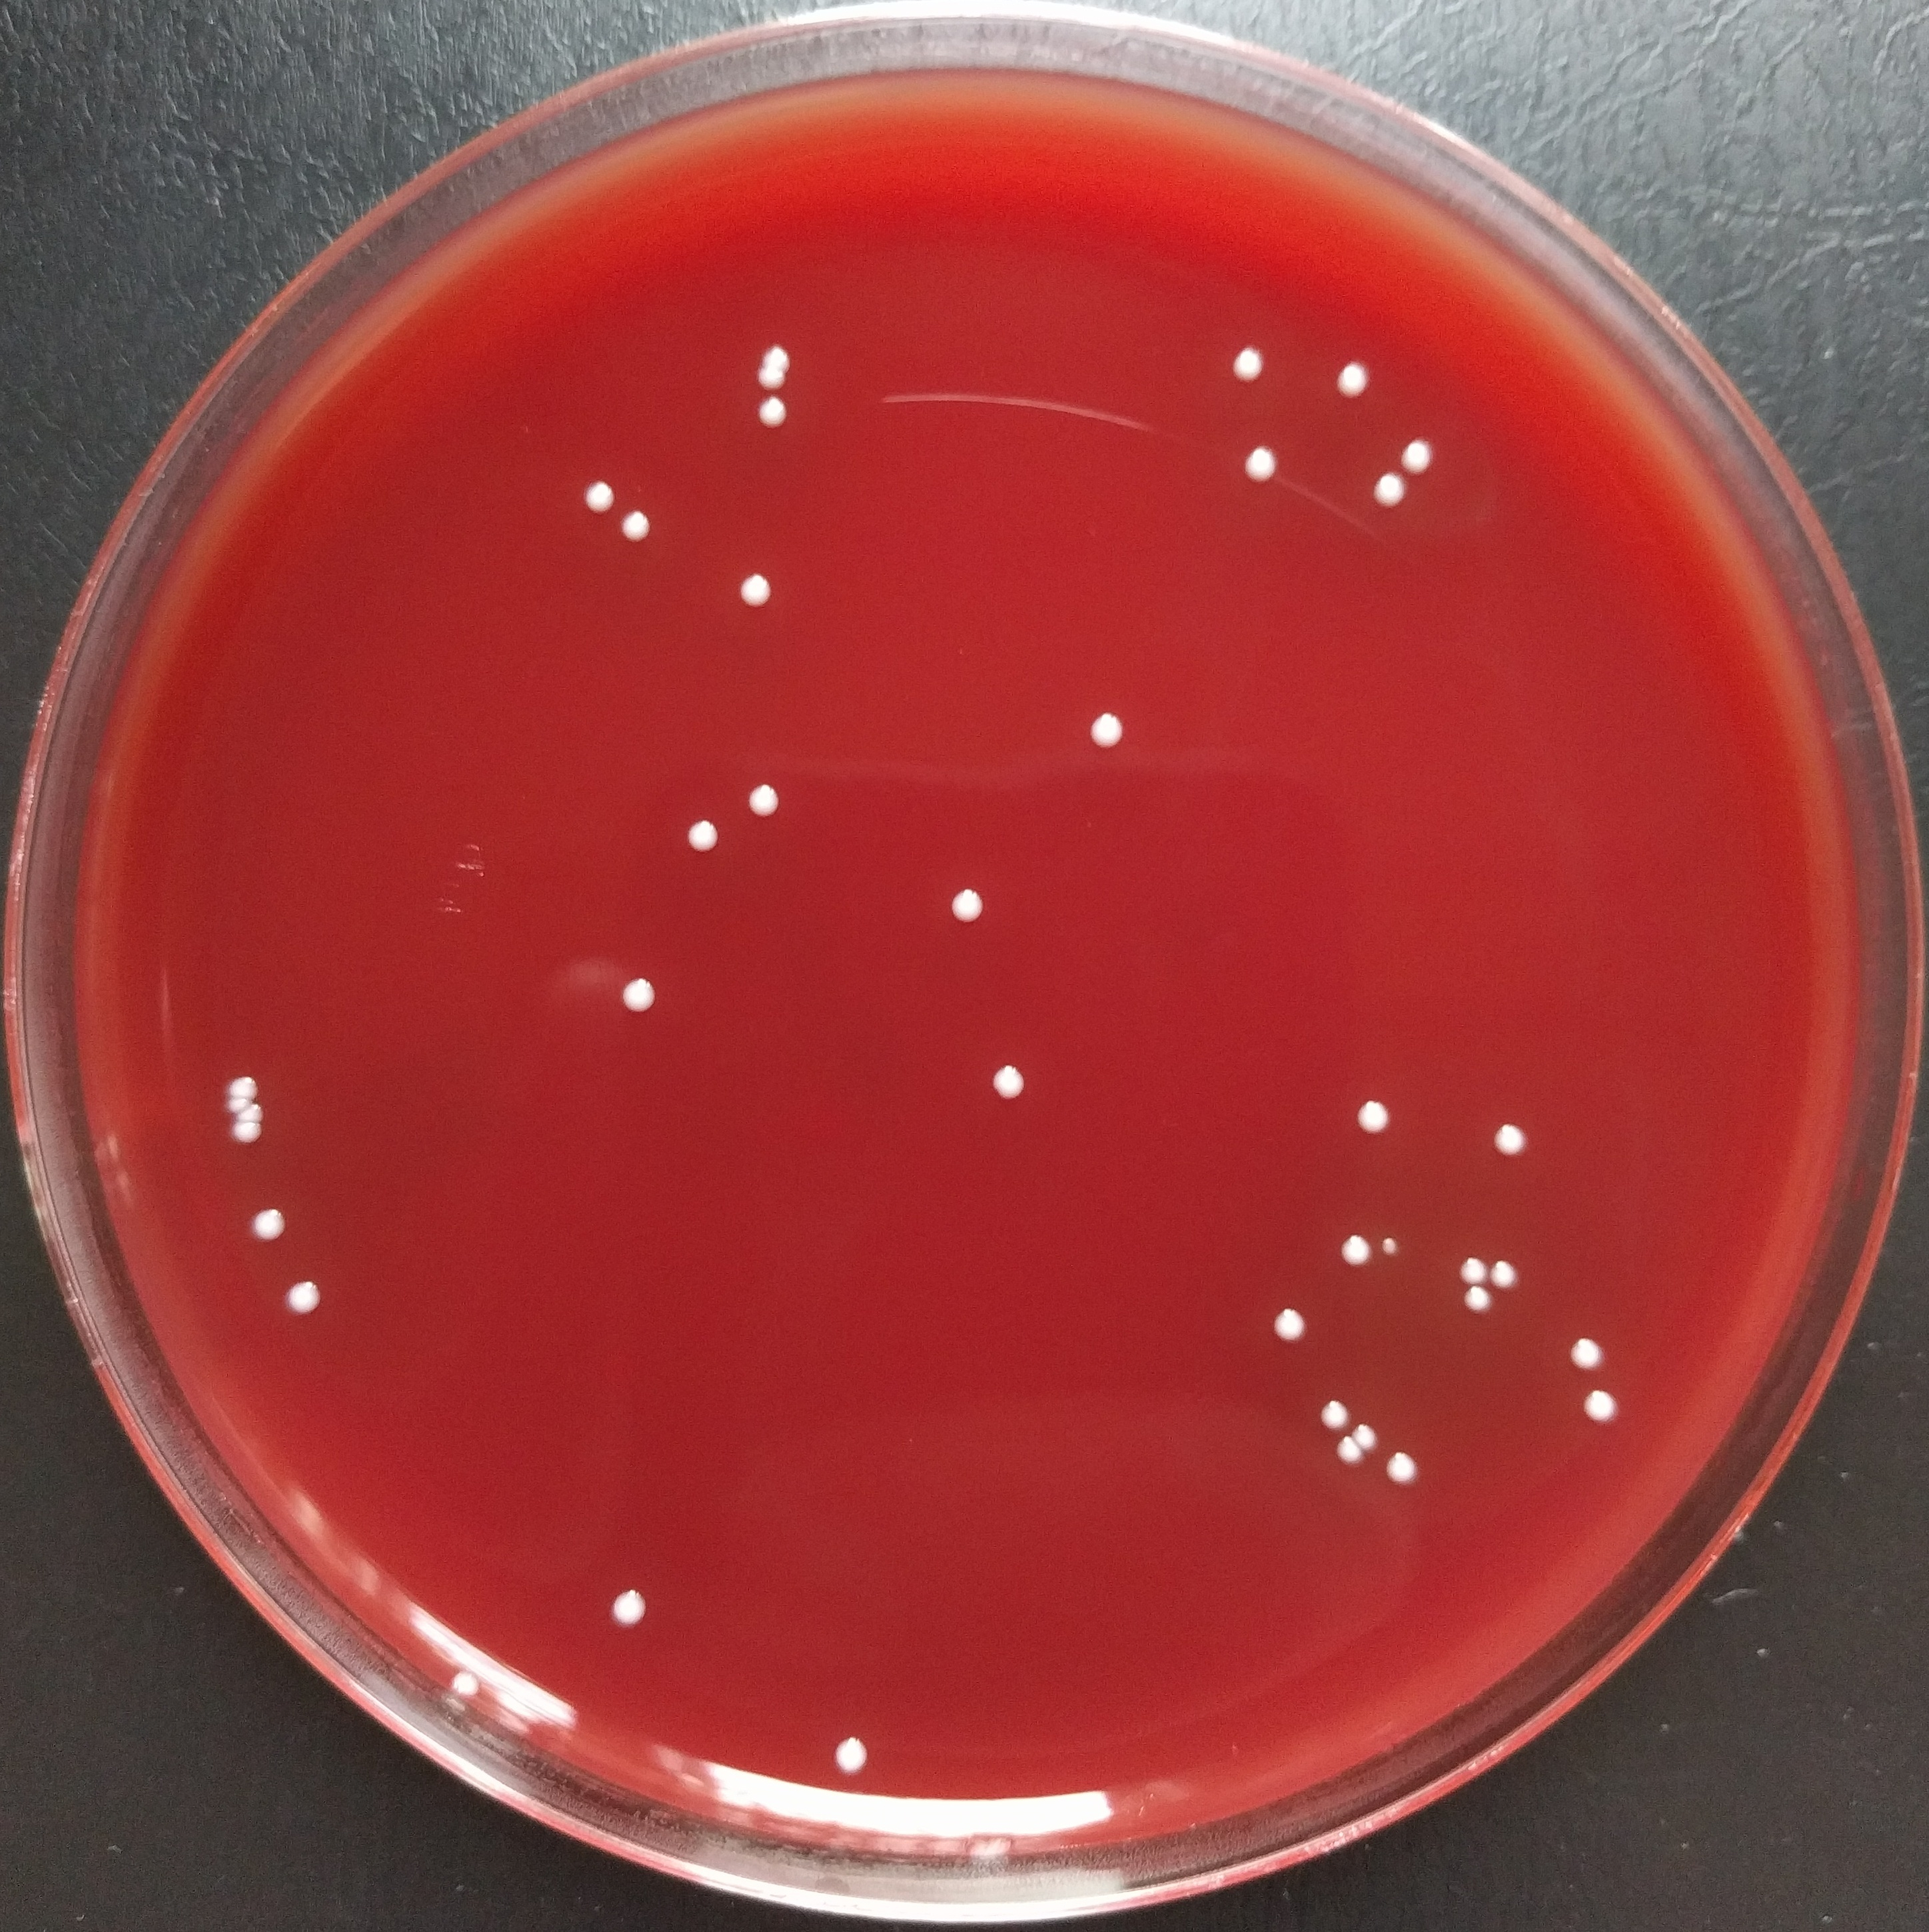sp24: (1358, 464, 1417, 516), (611, 970, 668, 1021), (606, 1577, 655, 1630), (731, 565, 779, 620), (1083, 705, 1132, 756), (1238, 436, 1279, 494), (979, 1060, 1032, 1102), (1560, 1332, 1613, 1374), (1265, 1298, 1312, 1344), (830, 1725, 876, 1773), (1224, 339, 1268, 389), (1351, 1097, 1397, 1141), (1574, 1388, 1623, 1429), (1334, 353, 1373, 403), (1394, 433, 1436, 477), (945, 881, 987, 925), (574, 475, 618, 516), (740, 782, 784, 823), (680, 816, 724, 857), (1383, 1448, 1420, 1496), (244, 1210, 295, 1241), (283, 1280, 329, 1316), (1487, 1123, 1533, 1158), (442, 1664, 482, 1701), (751, 397, 795, 431), (1327, 1432, 1364, 1471), (618, 507, 655, 542), (1335, 1231, 1369, 1268), (1312, 1393, 1350, 1427), (1489, 1256, 1523, 1293), (1459, 1286, 1494, 1319), (1454, 1250, 1489, 1284), (758, 341, 795, 369), (226, 1123, 265, 1148), (223, 1072, 261, 1097), (1350, 1420, 1376, 1453), (228, 1102, 272, 1121), (217, 1091, 260, 1109), (754, 369, 791, 387), (1383, 1233, 1406, 1257)
